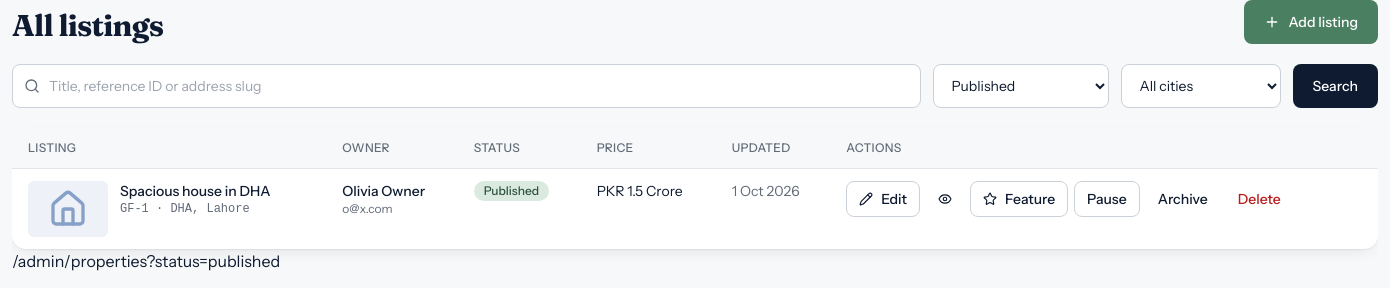
all listings › searches and filters through the URL, and links to adding and editing
Type "GF-1" into the search field named "Search listings" at (466, 86), box x1=12 y1=64 x2=920 y2=108
Then press Enter
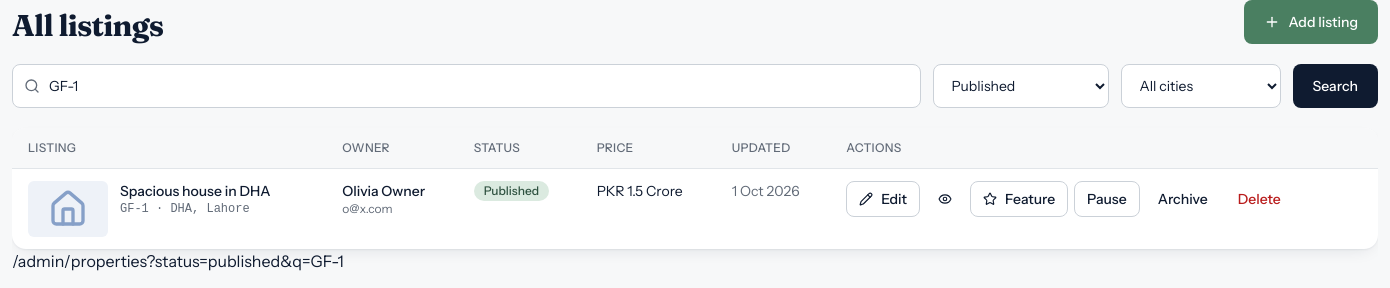
Result: the text with test id "url" shows "q=GF-1" at x1=146 y1=251 x2=344 y2=271
